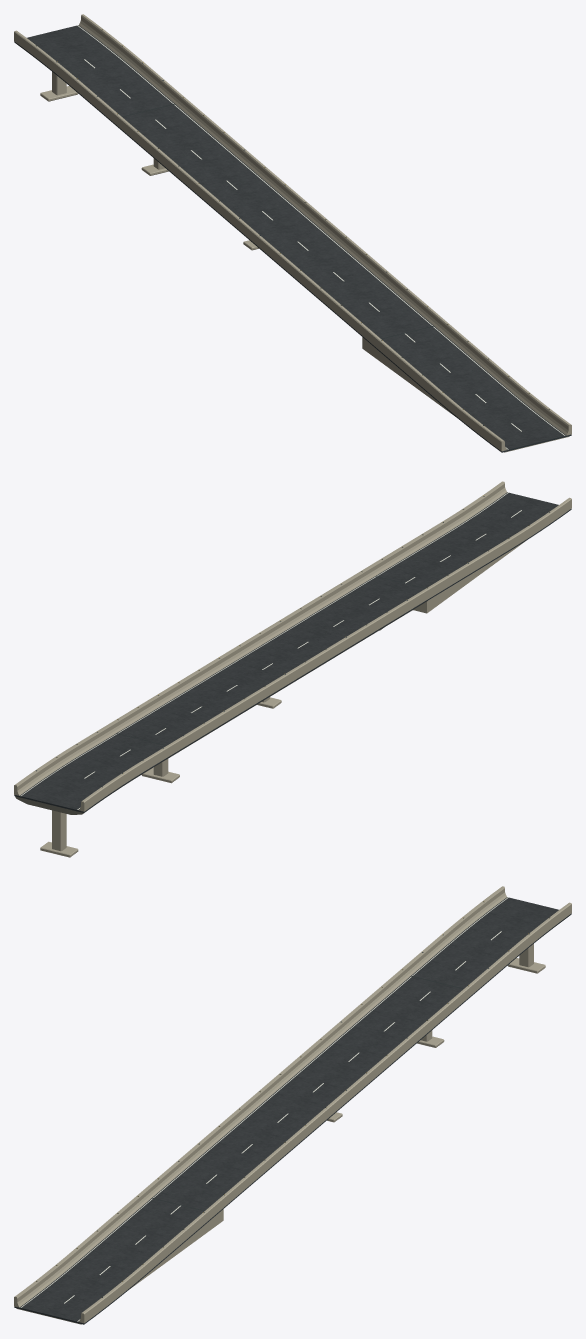
3 renders of one model, top to bottom at view 1: azimuth 30°, elevation 25°; view 2: azimuth 150°, elevation 25°; view 3: azimuth 330°, elevation 25°, orthographic.
Parts seen in each view (by area): view 1: Wearing Surface, Precast Edge Barriers, Edge Markings, Retained Approach, Pier Foundations; view 2: Wearing Surface, Precast Edge Barriers, Pier Columns, Retained Approach, Pier Foundations, Precast Viaduct Deck, Edge Markings; view 3: Wearing Surface, Precast Edge Barriers, Edge Markings, Retained Approach, Pier Foundations.
Part boxes in pixels (<box>): Wearing Surface: <box>14,25,571,452</box>; Precast Edge Barriers: <box>14,14,571,451</box>; Edge Markings: <box>77,25,565,449</box>; Retained Approach: <box>362,337,569,452</box>; Pier Foundations: <box>40,86,258,250</box>; Wearing Surface: <box>14,492,571,812</box>; Precast Edge Barriers: <box>14,481,571,811</box>; Pier Columns: <box>52,697,269,851</box>; Retained Approach: <box>413,541,525,613</box>; Pier Foundations: <box>40,628,382,857</box>; Precast Viaduct Deck: <box>15,601,427,814</box>; Edge Markings: <box>21,492,508,809</box>; Wearing Surface: <box>14,897,571,1324</box>; Precast Edge Barriers: <box>14,886,571,1323</box>; Edge Markings: <box>20,897,508,1321</box>; Retained Approach: <box>16,1209,223,1324</box>; Pier Foundations: <box>327,958,545,1122</box>.
Bounding box in the file's own units: 7.98 × 7.07 × 96.
Materials: 8 (1 with a texture image).
